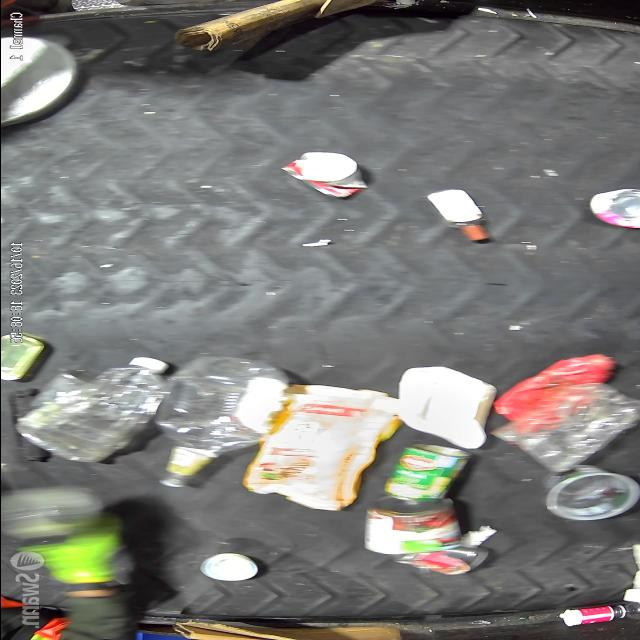can: (362, 498, 461, 552), (382, 444, 464, 504), (394, 544, 494, 574)
plastic_bottle: (11, 358, 167, 462), (164, 355, 286, 487)
